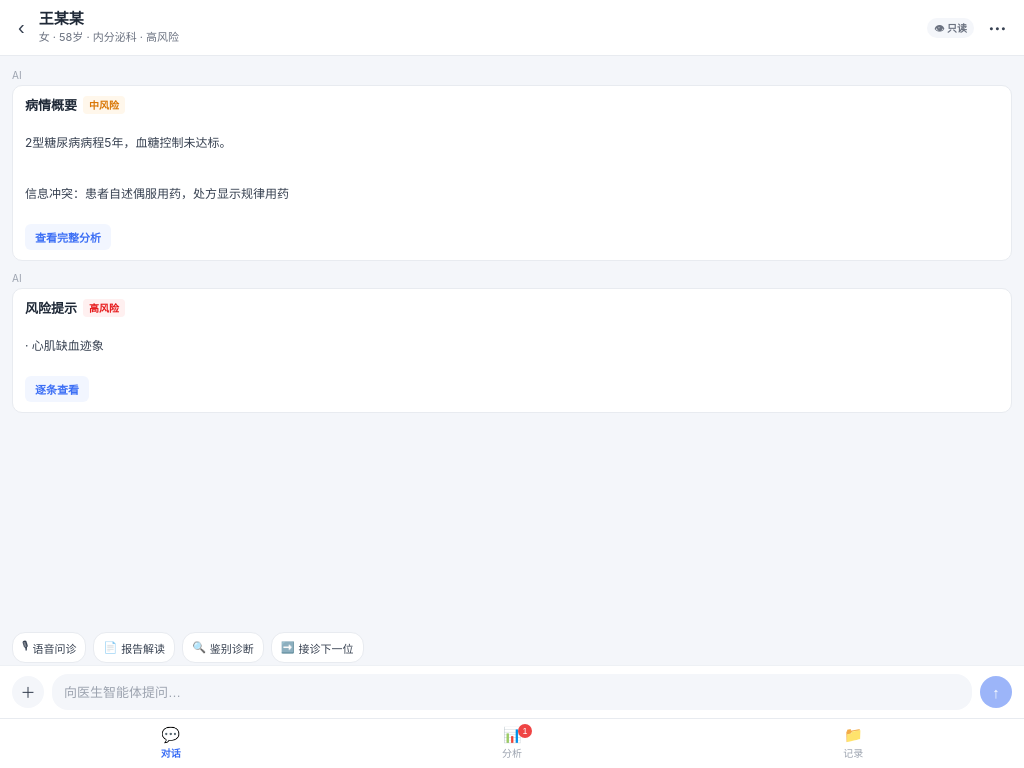
移动端工作站 · 不写 HIS/EMR › 只读横幅把去处说清楚，而不是让医生自己猜
Click the button "📁 记录".
click(853, 744)  # box [683, 727, 1023, 760]
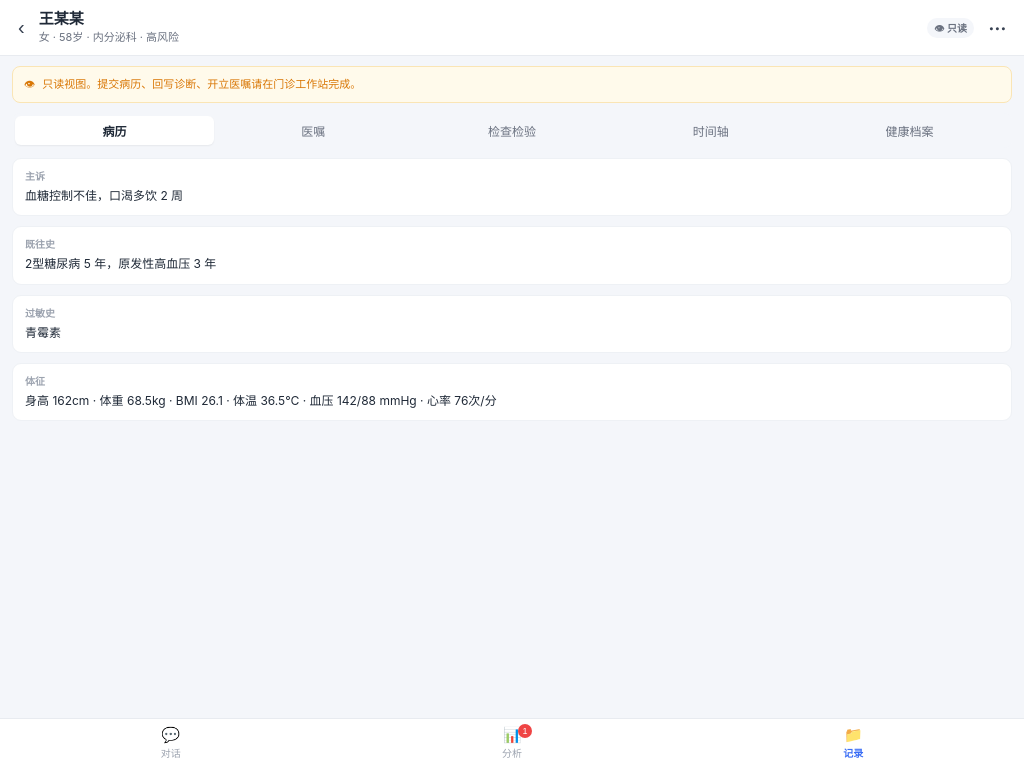
expect the text "提交病历、回写诊断、开立医嘱请在门诊工作站完成" is shown: met, box [42, 77, 361, 91]
